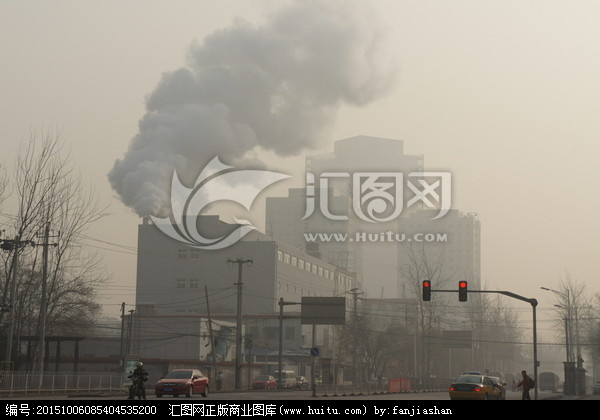dust: (100, 72, 260, 234)
